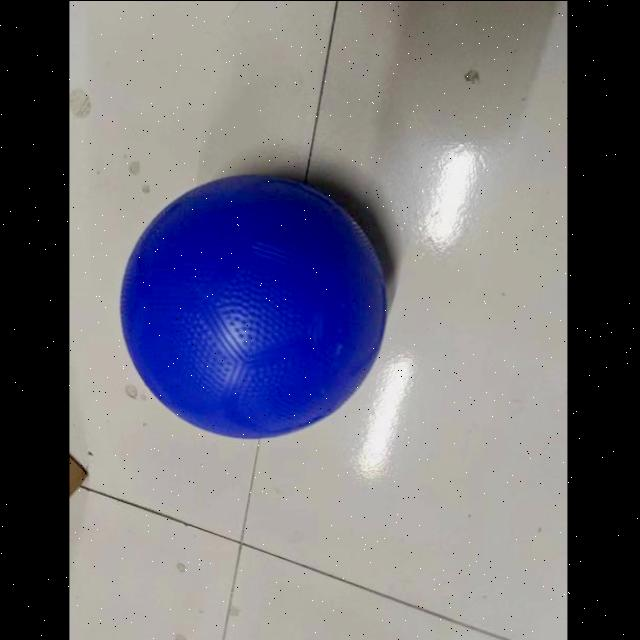B: (116, 170, 388, 448)
